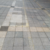zebra: (1, 6, 50, 31)
